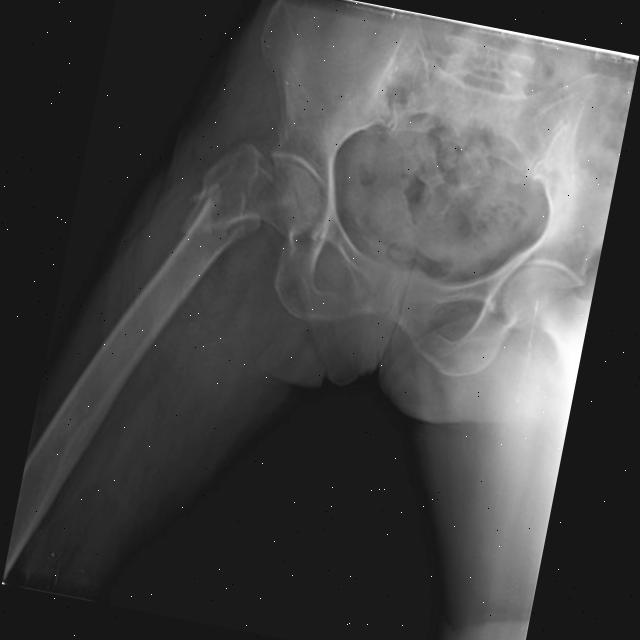Fracture: (172, 179, 253, 248)
